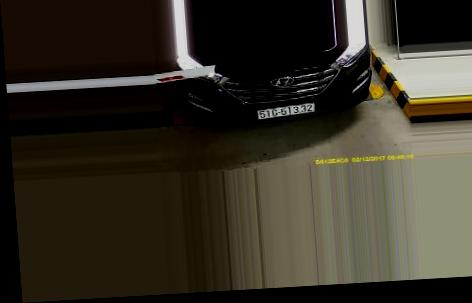License_Plate: (253, 100, 318, 124)
